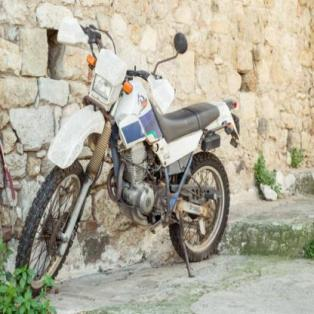Motocicleta: (9, 9, 242, 296)
